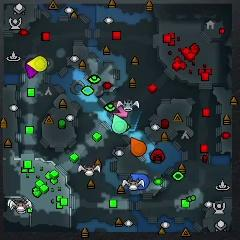p1: (131, 173, 150, 189)
p2: (112, 114, 128, 134)
p3: (25, 58, 38, 79)
p4: (27, 55, 47, 71)
p5: (130, 137, 147, 156)
x1: (113, 102, 128, 118)
